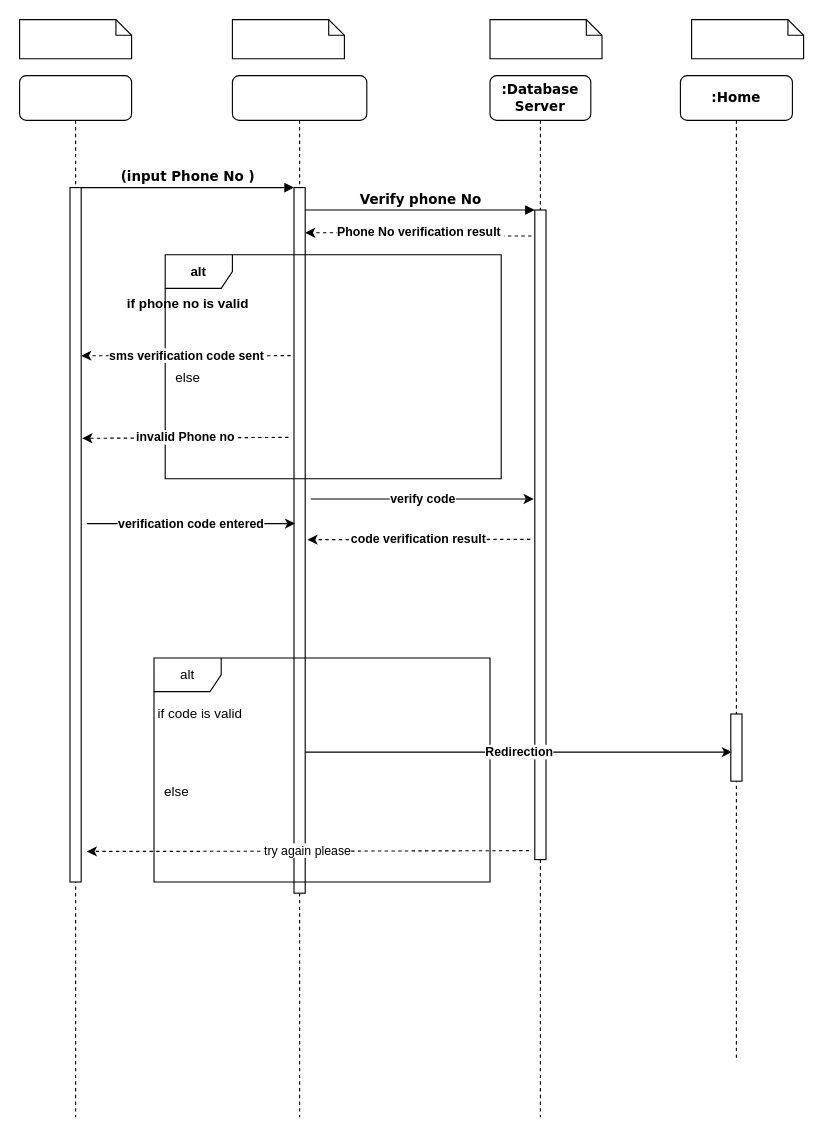
This 823x1137 diagram has some shape labels left out. Each missing label, with the box of its shape:
:Registration <Controller>: (231, 74, 367, 1117)
:User: (18, 74, 132, 1117)
